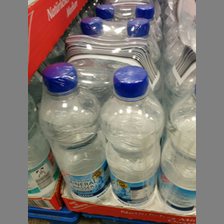water: (38, 63, 109, 203), (101, 63, 163, 205), (160, 75, 195, 212)
